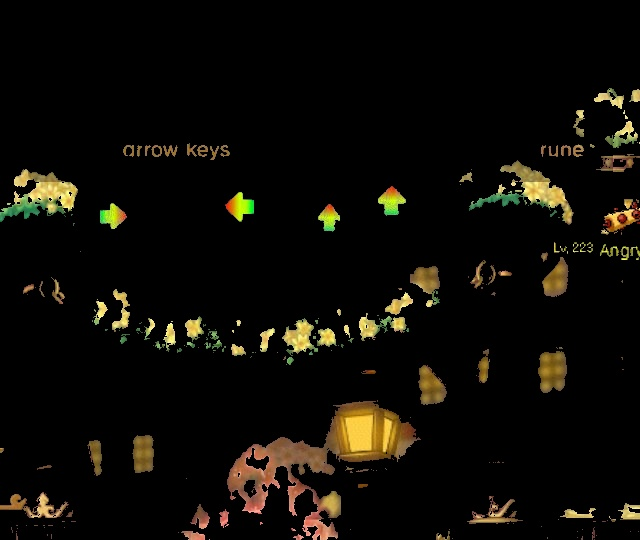left: (218, 186, 264, 227)
right: (93, 199, 133, 240)
up: (371, 179, 412, 222), (313, 201, 349, 234)
